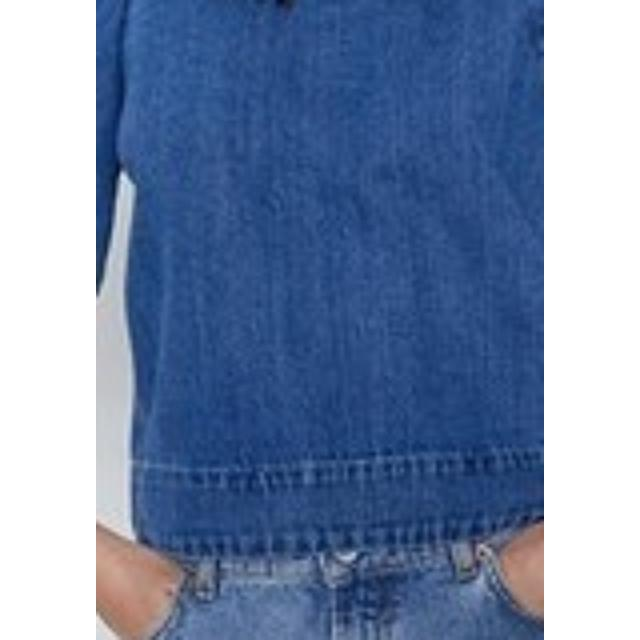denim: (180, 0, 544, 640)
